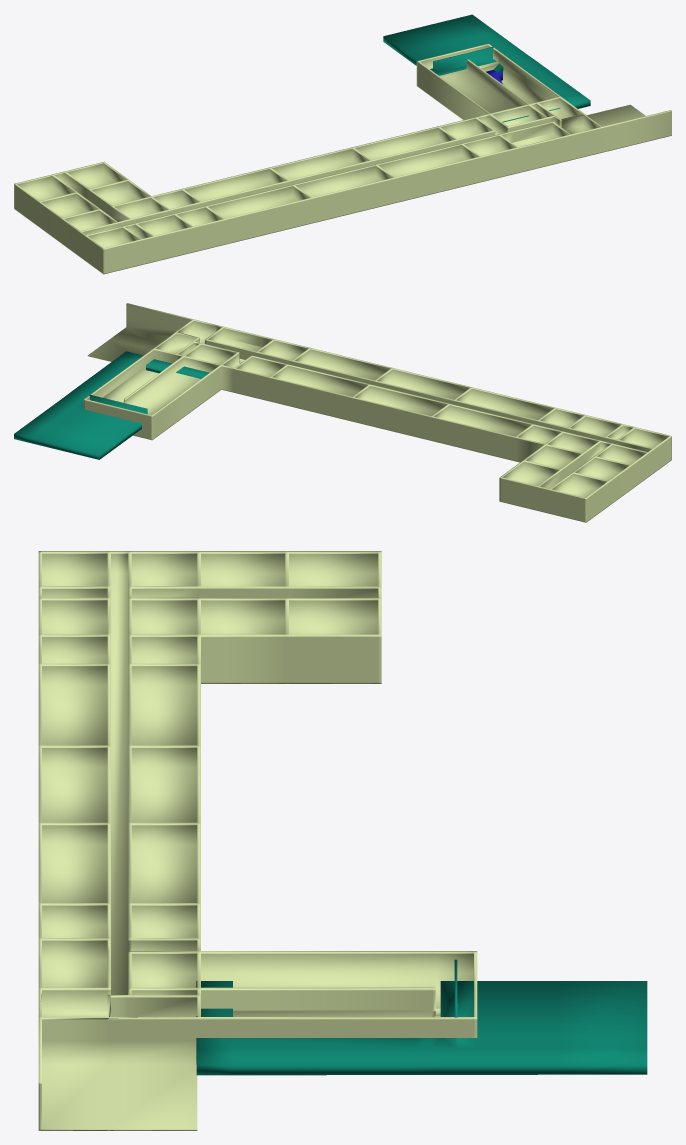
3 renders of one model, top to bottom at view 1: azimuth 30°, elevation 25°; view 2: azimuth 150°, elevation 25°; view 3: azimuth 270°, elevation 25°, orthographic. The views are drawn at different scales.
Parts seen in each view (by area): view 1: Box001, StraightStair002; view 2: Box001, StraightStair002; view 3: Box001, StraightStair002.
Boxes of the visible parts, <box> form: Box001: <box>14,43,671,274</box>; StraightStair002: <box>383,14,590,122</box>; Box001: <box>83,303,671,522</box>; StraightStair002: <box>14,351,209,459</box>; Box001: <box>38,551,477,1130</box>; StraightStair002: <box>196,959,647,1075</box>.
Bounding box in the file's own units: 3641 × 159 × 1763.
